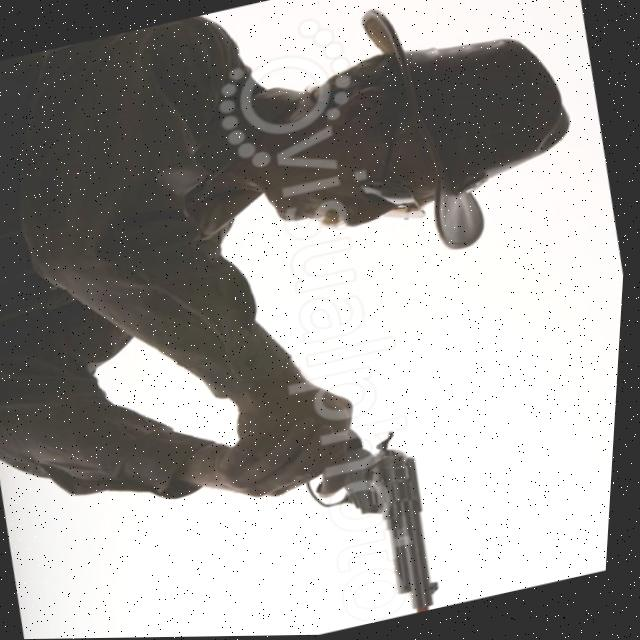pistol: (295, 422, 464, 634)
